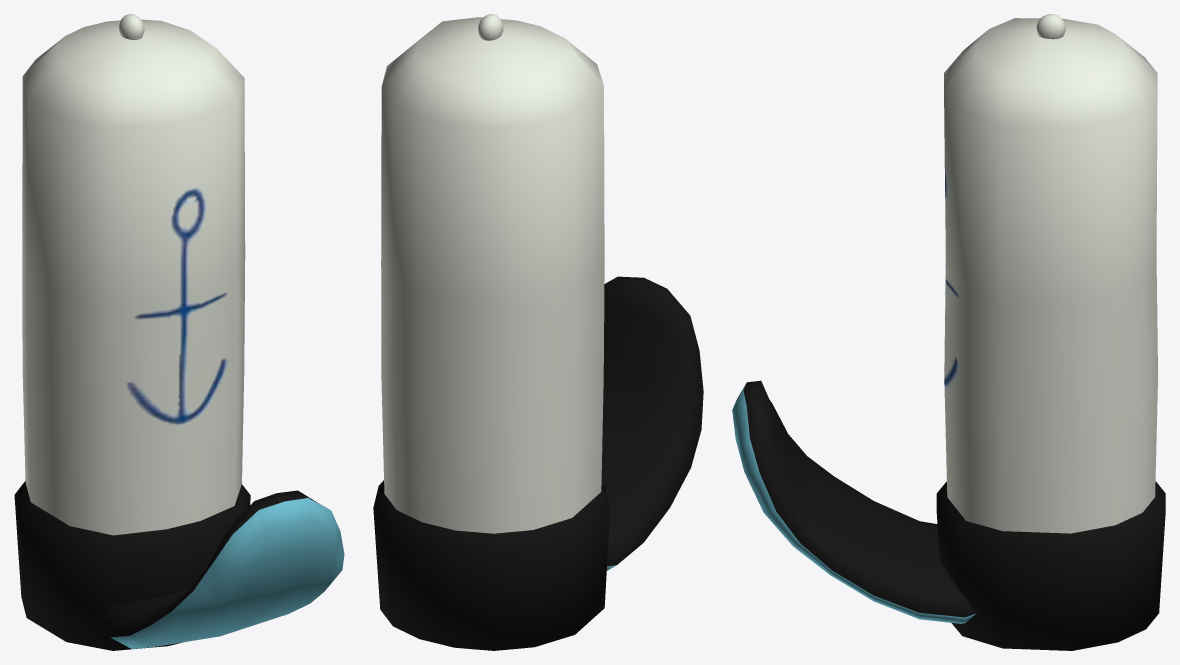
Rendered from krustykrabhat.dae.
3 views of the same model, side by side, from view 1: azimuth 30°, elevation 25°; view 2: azimuth 150°, elevation 25°; view 3: azimuth 270°, elevation 25° (orthographic).
Parts seen in each view (by area): view 1: Cylinder001; view 2: Cylinder001; view 3: Cylinder001.
Boxes of the visible parts, bbox=[...] form: Cylinder001: bbox=[14, 14, 344, 650]; Cylinder001: bbox=[373, 14, 703, 650]; Cylinder001: bbox=[732, 14, 1165, 650].
Size of the model in its own units: 2.11 by 3.94 by 5.92.
Materials: 3 (3 with a texture image).
